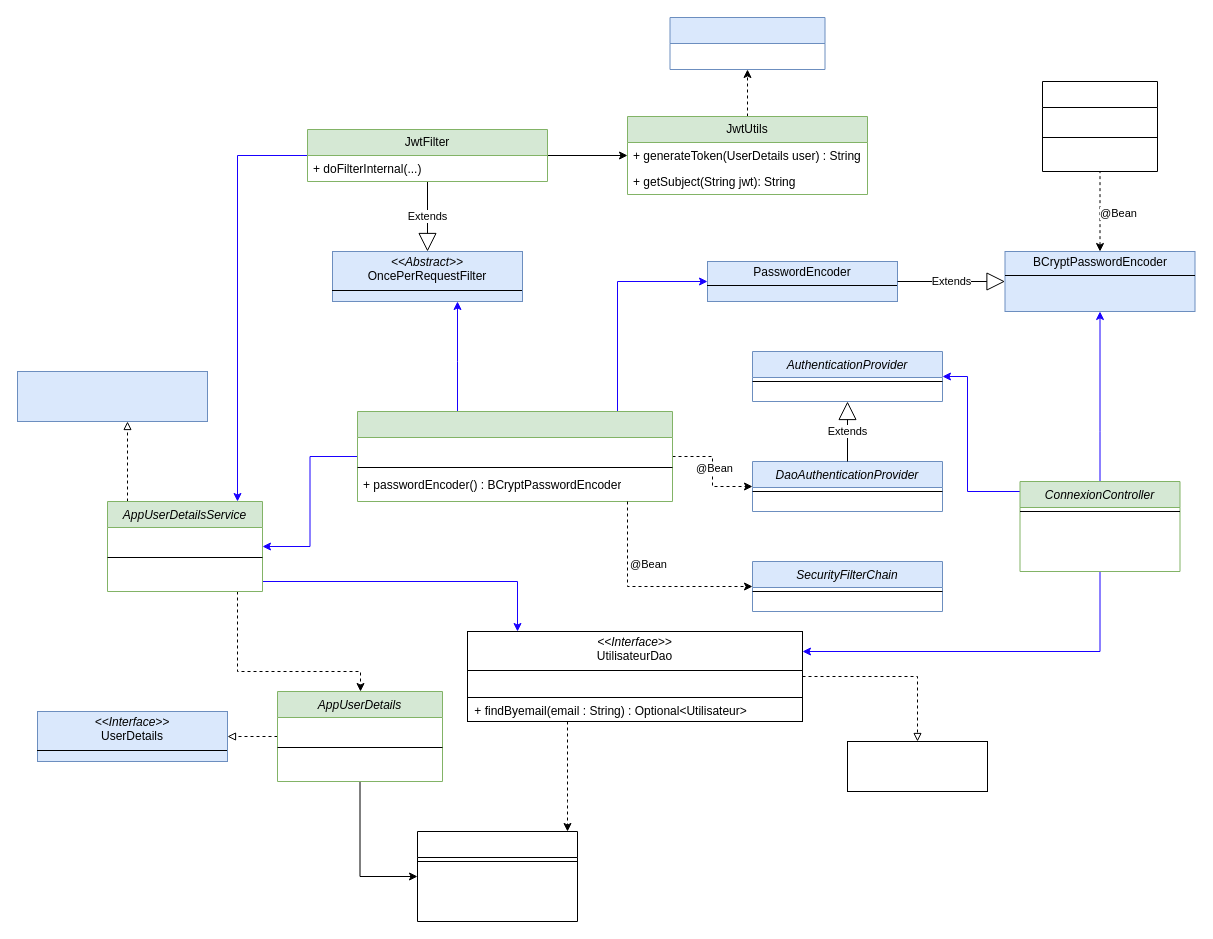
Some shapes in this 1213 by 939 pixel diagram are drawn without their labels. The box of each missing label's shape, as (x1, y1, x2, y2) in pixels:
<<Interface>> JPARepository: (846, 740, 988, 792)
<<Interface>> UserDetailsService: (16, 370, 208, 422)
Application: (1042, 80, 1158, 172)
io.jsonwebtoken.Jwts: (669, 16, 825, 70)
SecuriteConfig: (356, 410, 672, 502)
Utilisateur: (416, 830, 578, 922)
